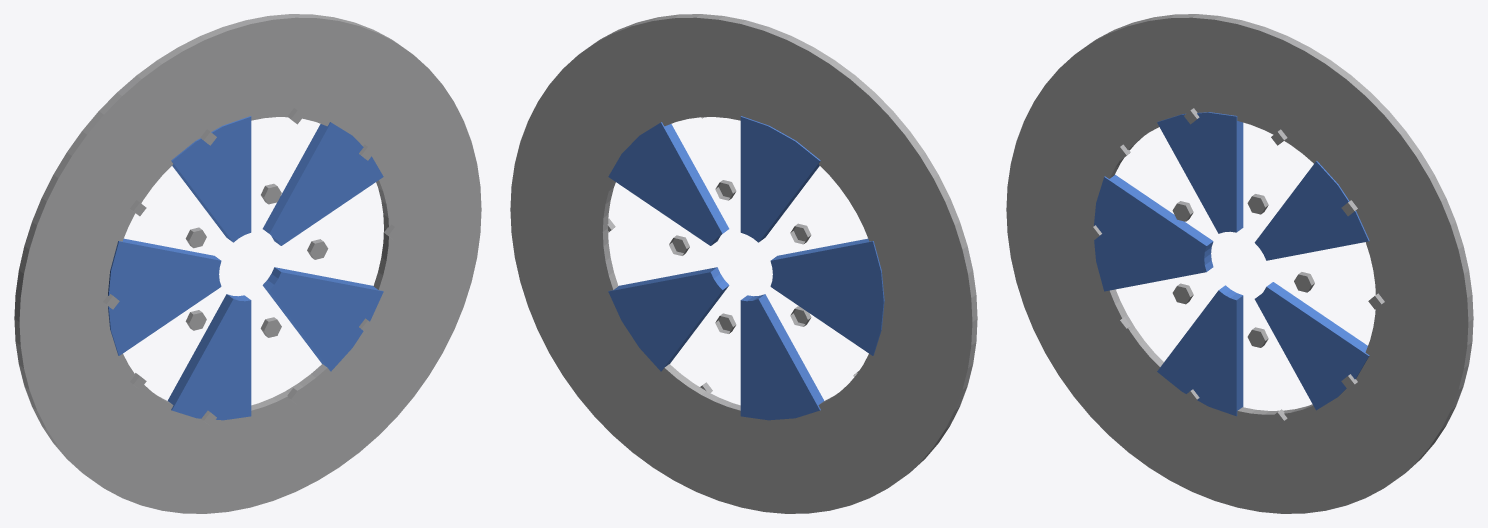
File: floating_310_lod1.glb
3 views of the same model, side by side, from view 1: azimuth 30°, elevation 25°; view 2: azimuth 150°, elevation 25°; view 3: azimuth 330°, elevation 25° (orthographic).
Visible parts, largest first — view 1: floating_310_lod1; view 2: floating_310_lod1; view 3: floating_310_lod1.
Part boxes in pixels (box(x1,y1,x2,y2)): floating_310_lod1: box(14, 14, 481, 513); floating_310_lod1: box(510, 14, 977, 513); floating_310_lod1: box(1006, 14, 1473, 513).
Bounding box in the file's own units: 0.31 × 0.31 × 0.011.
